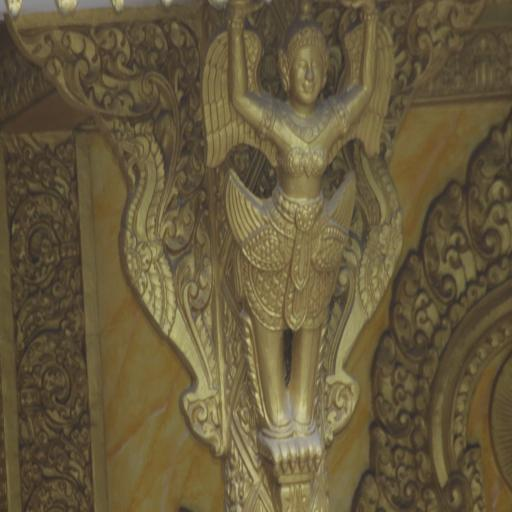la: (13, 322, 86, 512), (7, 187, 82, 330)
lua: (468, 125, 512, 261), (422, 181, 472, 299), (392, 248, 439, 352), (375, 332, 415, 430), (373, 427, 416, 512), (163, 179, 205, 254), (50, 26, 100, 82), (182, 228, 213, 310), (90, 18, 135, 70), (132, 21, 173, 75)
ran: (99, 104, 208, 429), (328, 117, 412, 429)
than: (199, 2, 385, 438)
